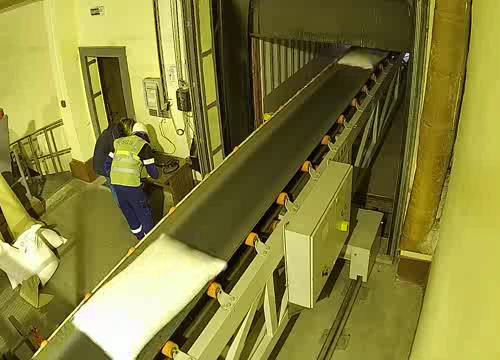bag: (65, 234, 254, 360), (334, 43, 394, 70)
